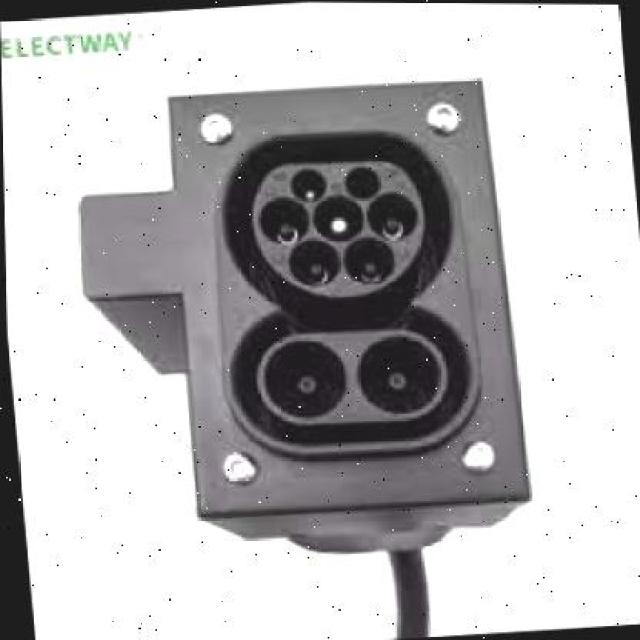CCS2: (183, 98, 489, 509)
